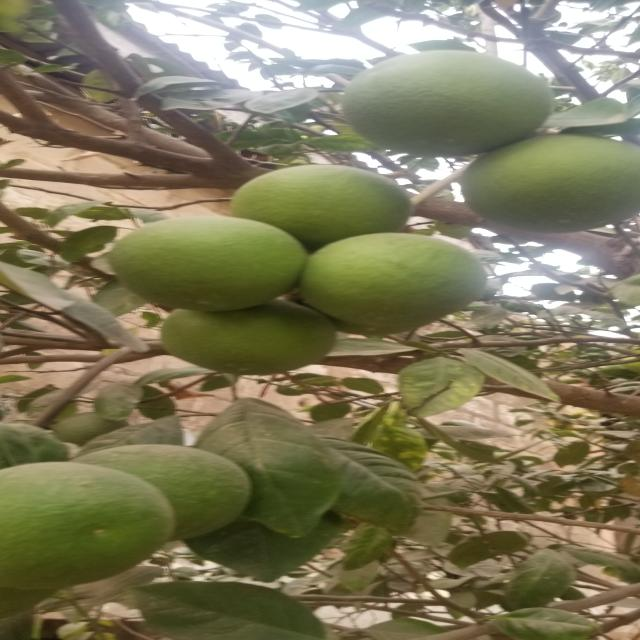Unripe: (0, 440, 245, 595), (78, 208, 320, 325), (330, 45, 558, 165), (225, 157, 428, 256), (300, 232, 493, 333), (476, 132, 636, 243)
